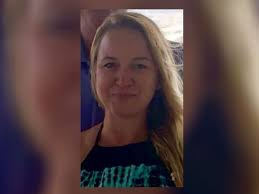No-Glasses: (93, 58, 158, 78)
